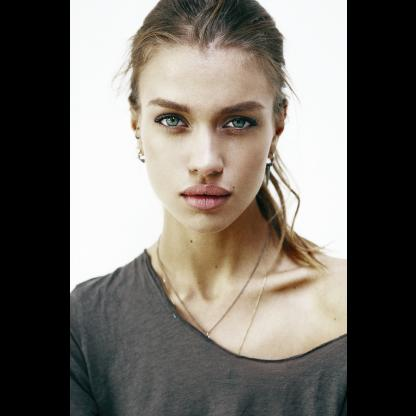Female: (129, 42, 285, 230)
